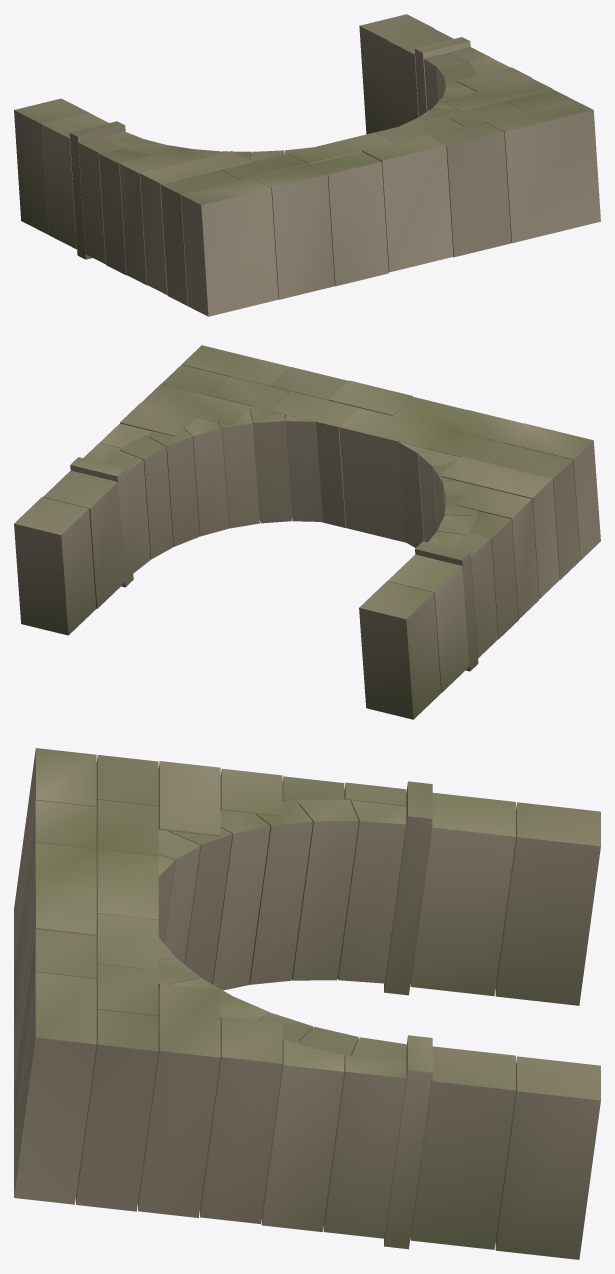
File: arena_fallen_mid.glb
3 renders of one model, top to bottom at view 1: azimuth 30°, elevation 25°; view 2: azimuth 150°, elevation 25°; view 3: azimuth 270°, elevation 25°, orthographic. The views are drawn at different scales.
Parts seen in each view (by area): view 1: arena_fallen_mid; view 2: arena_fallen_mid; view 3: arena_fallen_mid.
Boxes of the visible parts, x1,y1,x2,y2 form: arena_fallen_mid: (14,14,600,316); arena_fallen_mid: (14,345,600,719); arena_fallen_mid: (14,748,600,1259).
Size of the model in its own units: 19.19 by 6.91 by 16.46.
